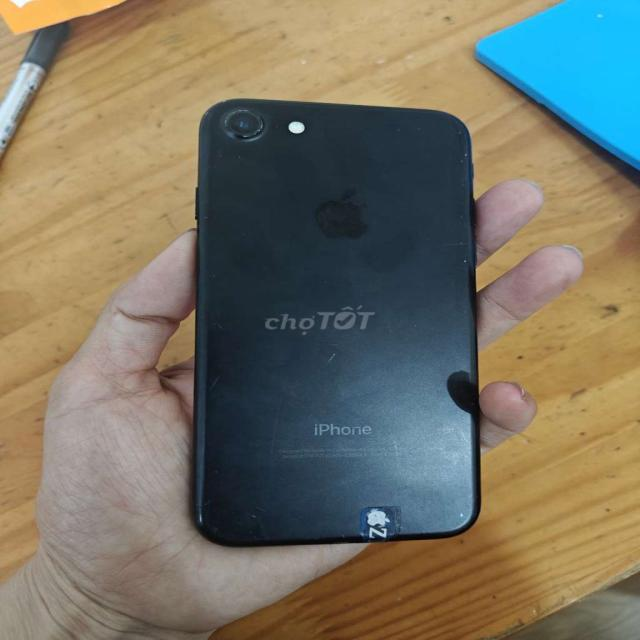gen_7_8: (176, 92, 507, 550)
scratch: (391, 110, 476, 273), (189, 495, 472, 539), (188, 201, 260, 281), (192, 313, 231, 396), (213, 99, 268, 140), (206, 142, 258, 174), (260, 394, 280, 473), (379, 433, 408, 472), (448, 418, 479, 446), (315, 343, 342, 365)
